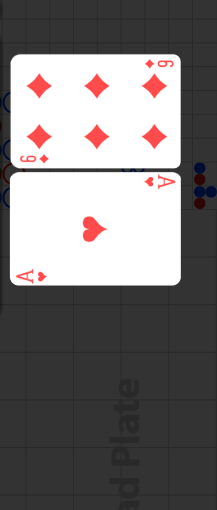6D: (143, 58, 175, 70)
AH: (16, 267, 50, 283)
